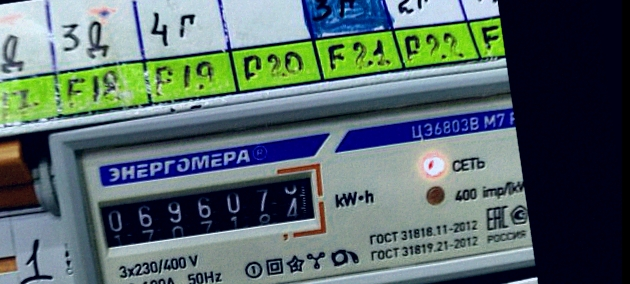0: (105, 206, 125, 232), (223, 187, 242, 214)
4: (282, 194, 301, 220)
6: (194, 192, 214, 219), (135, 202, 155, 228)
7: (253, 185, 272, 213)
9: (164, 198, 184, 224)
screen: (83, 155, 333, 263)
